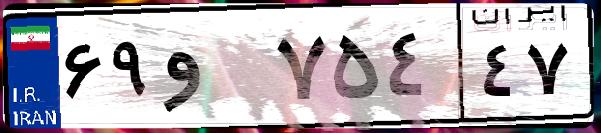4: (385, 28, 445, 110), (475, 38, 525, 113)
5: (330, 28, 385, 110)
6: (57, 26, 110, 100)
7: (270, 28, 330, 110), (525, 38, 570, 115)
9: (110, 28, 158, 98)
و: (158, 20, 270, 120)
